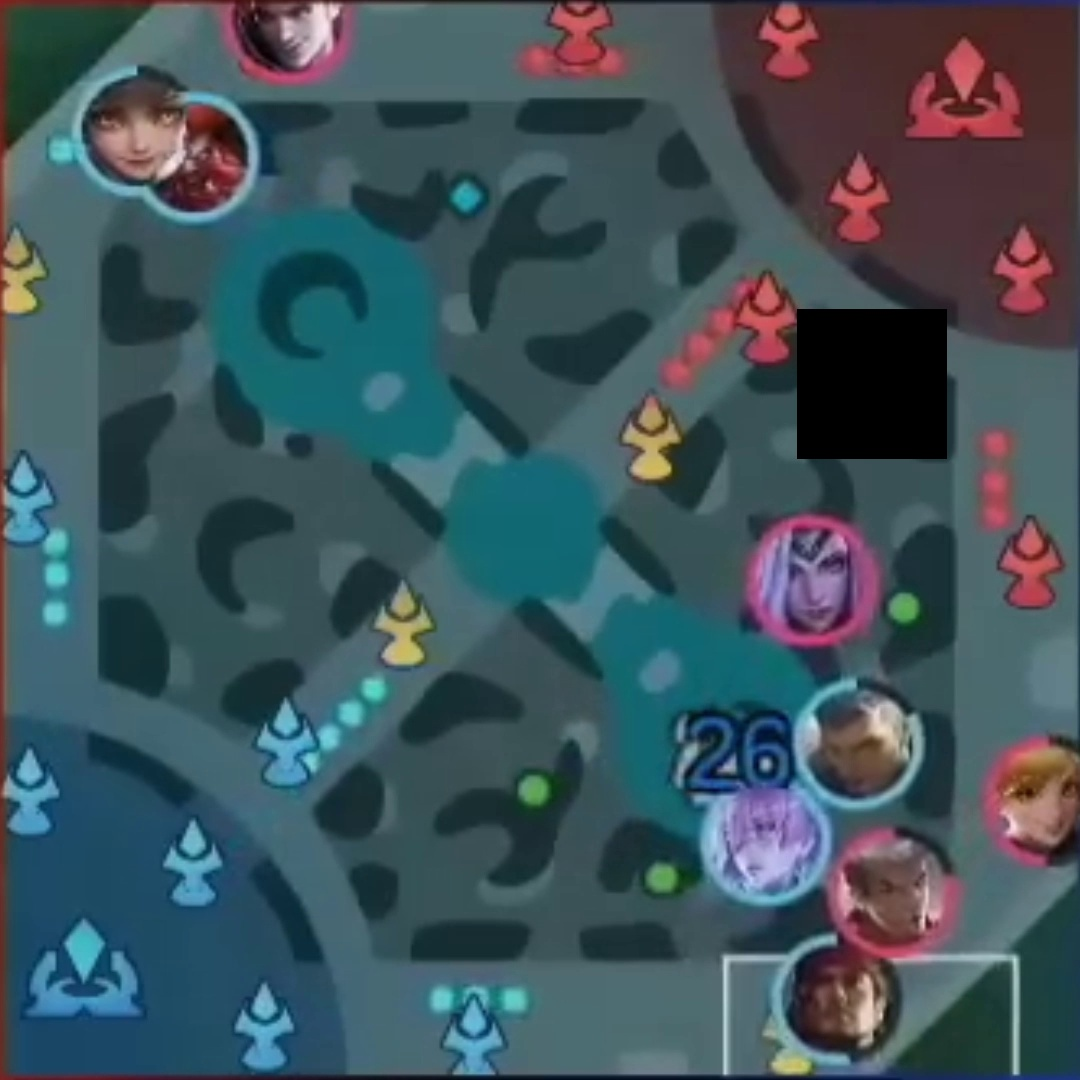Chou: (843, 844, 936, 939)
Claude: (249, 3, 333, 68)
Fanny: (1007, 749, 1073, 847)
Fredrinn: (814, 708, 900, 791)
Lapu-Lapu: (796, 949, 879, 1049)
Minotaur: (186, 104, 236, 209)
Novaria: (719, 799, 811, 893)
Valentina: (763, 531, 861, 627)
Wanwan: (93, 85, 180, 170)
